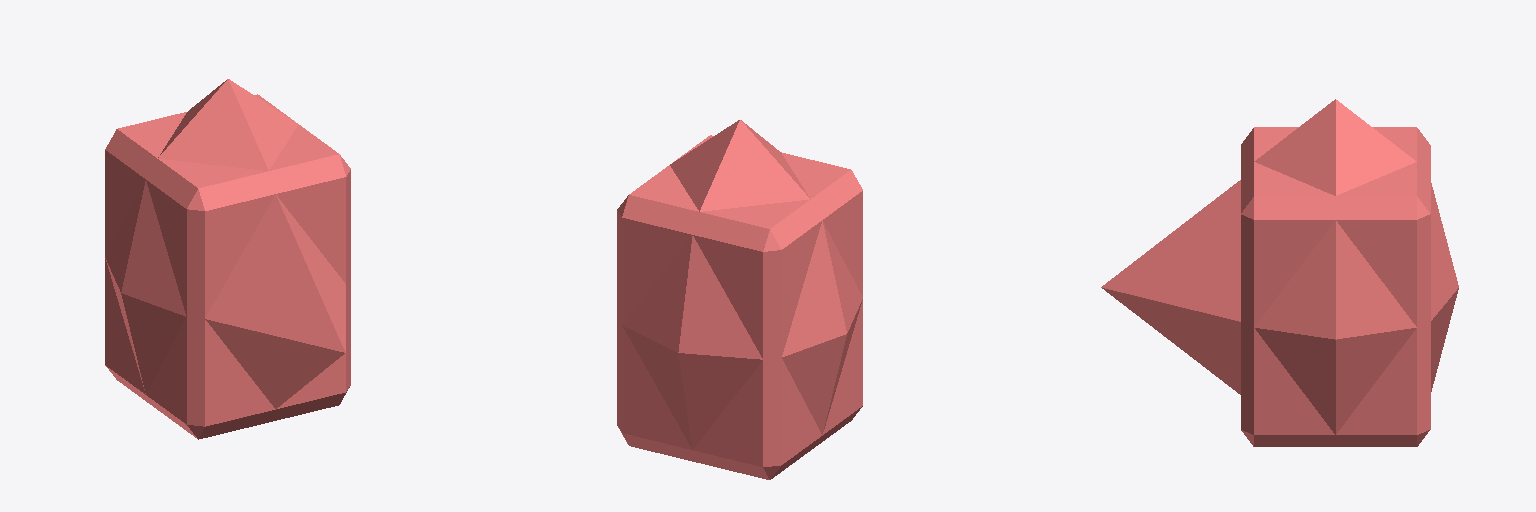
3 renders of one model, left to right at view 1: azimuth 30°, elevation 25°; view 2: azimuth 150°, elevation 25°; view 3: azimuth 270°, elevation 25°, orthographic.
Parts seen in each view (by area): view 1: Cube.001; view 2: Cube.001; view 3: Cube.001.
Part boxes in pixels (left/top/right/bottom): Cube.001: left=105, top=79, right=350, bottom=439; Cube.001: left=617, top=120, right=862, bottom=479; Cube.001: left=1101, top=99, right=1458, bottom=446.
Size of the model in its own units: 1.56 by 2.19 by 2.26.
Materials: 1 (1 with a texture image).